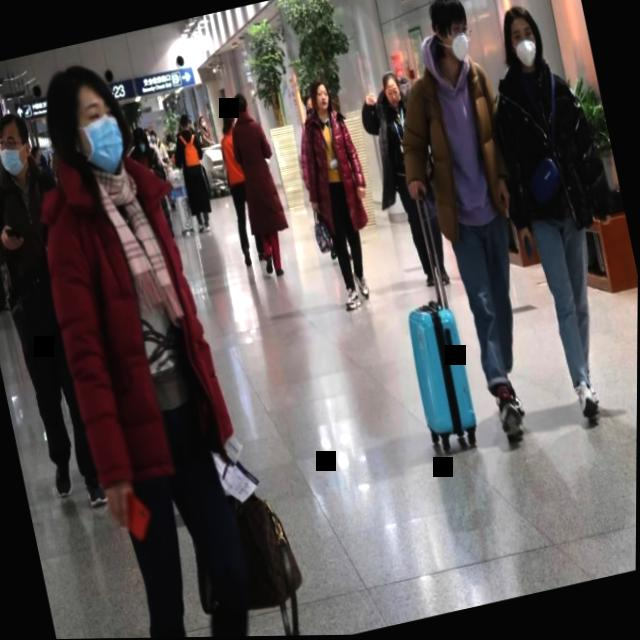Mask: (36, 54, 135, 196), (491, 0, 549, 79), (419, 0, 476, 73), (0, 106, 37, 176)
NO-Mask: (377, 68, 405, 114), (305, 74, 334, 118)
